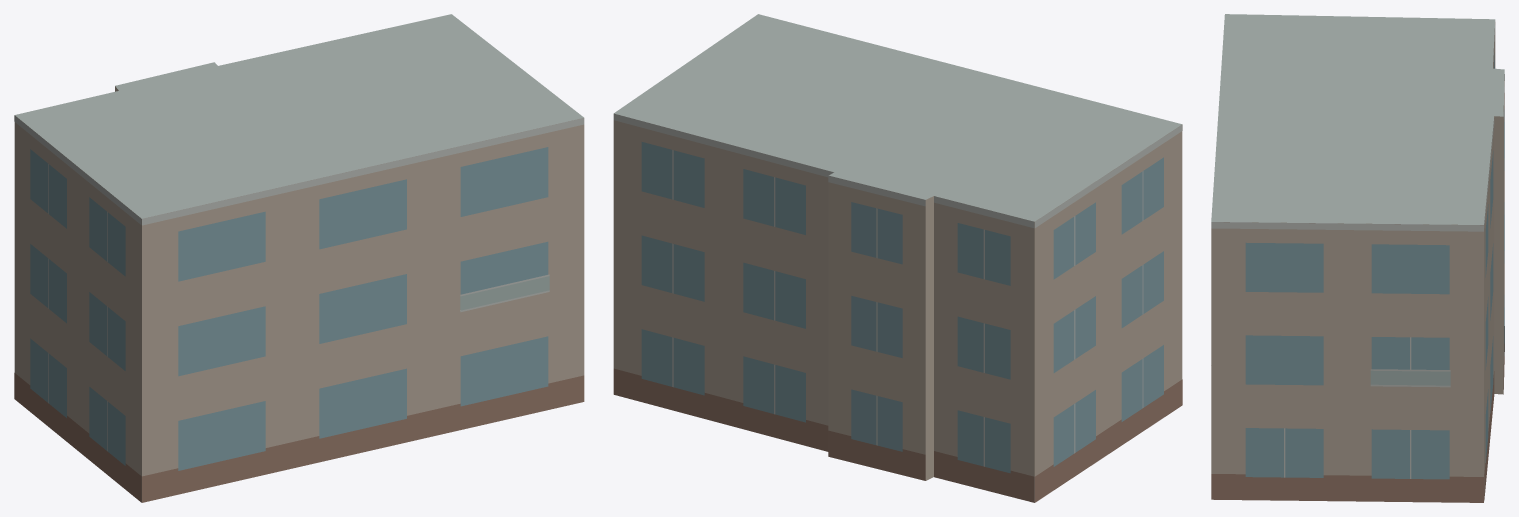
File: survey-upis-32583350.glb
3 renders of one model, left to right at view 1: azimuth 30°, elevation 25°; view 2: azimuth 150°, elevation 25°; view 3: azimuth 270°, elevation 25°, orthographic. The views are drawn at different scales.
Parts seen in each view (by area): view 1: survey-upis-32583350.tmp; view 2: survey-upis-32583350.tmp; view 3: survey-upis-32583350.tmp.
Part boxes in pixels (x1,y1,x2,y2): survey-upis-32583350.tmp: [14, 14, 584, 502]; survey-upis-32583350.tmp: [613, 14, 1182, 502]; survey-upis-32583350.tmp: [1211, 14, 1504, 502].
Bounding box in the file's own units: 16.8 × 10.3 × 9.88.
